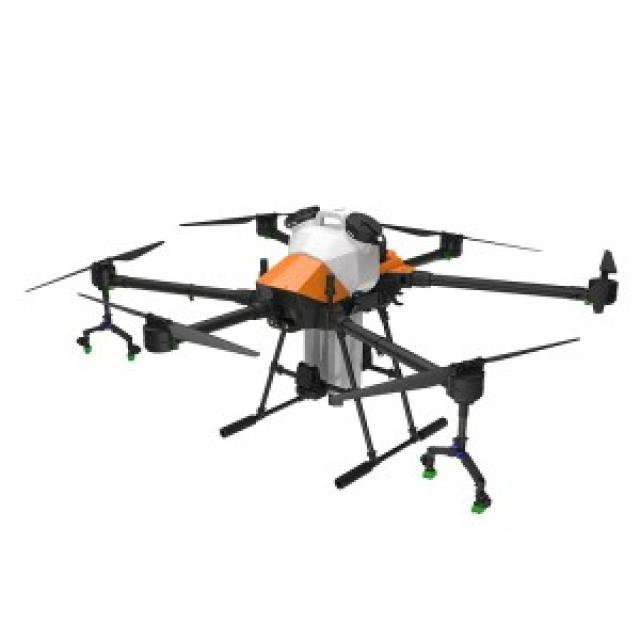drone: (38, 179, 640, 482)
